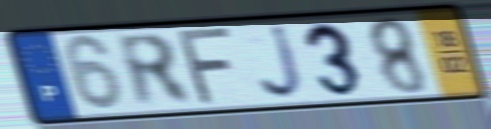3: (303, 18, 373, 102)
6: (60, 31, 130, 116)
8: (366, 15, 429, 96)
F: (176, 24, 238, 108)
J: (258, 22, 308, 102)
R: (112, 32, 198, 111)
